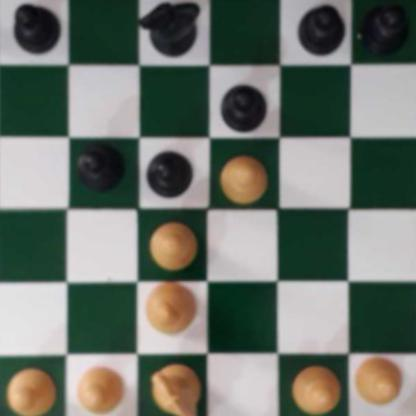black-knight: (136, 0, 199, 52)
black-pawn: (72, 139, 125, 189), (217, 79, 266, 133), (8, 0, 56, 53), (293, 0, 341, 53), (359, 0, 407, 52), (142, 147, 190, 198)
white-bishop: (144, 280, 196, 334)
white-knight: (147, 362, 201, 416)
white-pawn: (287, 360, 338, 411), (72, 362, 123, 413), (350, 353, 400, 405), (147, 215, 198, 265), (5, 367, 56, 416), (215, 150, 265, 199)
